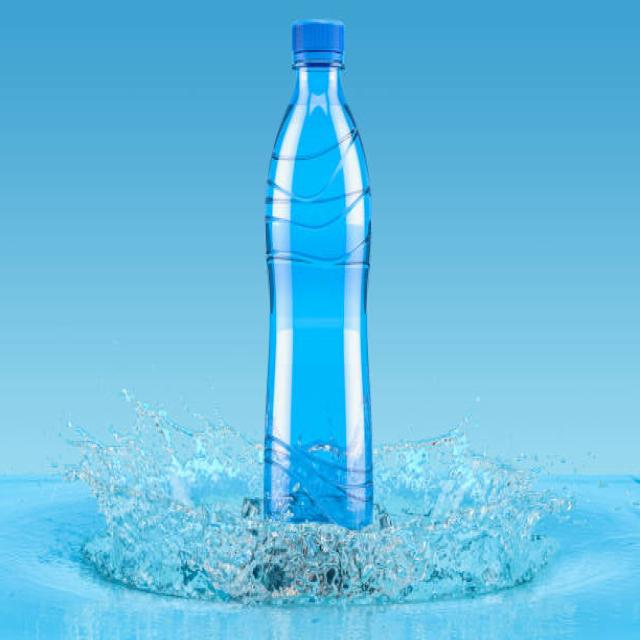blue_bottle: (255, 11, 380, 556)
